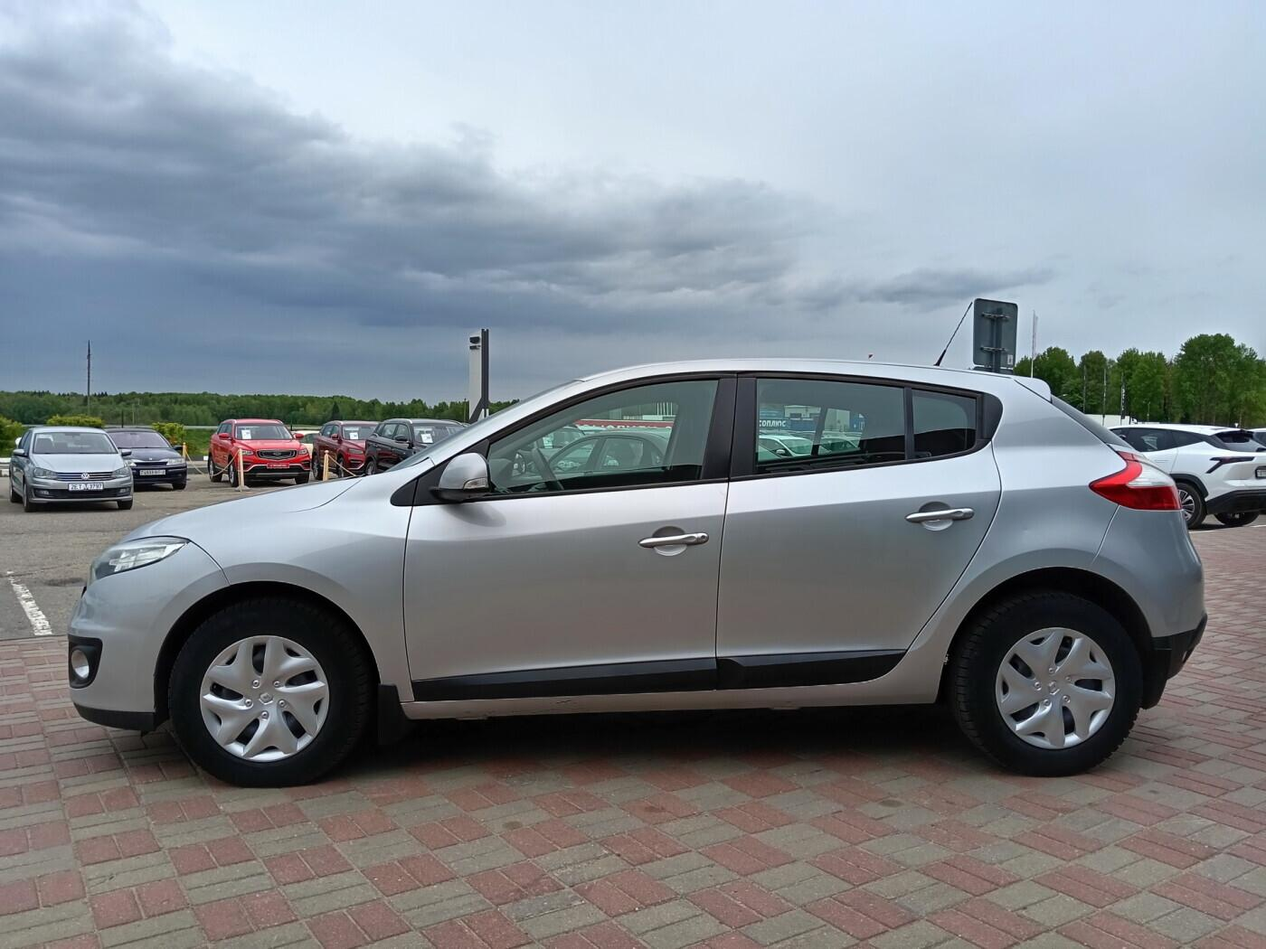Megane_2012-2014: (48, 356, 1205, 797)
